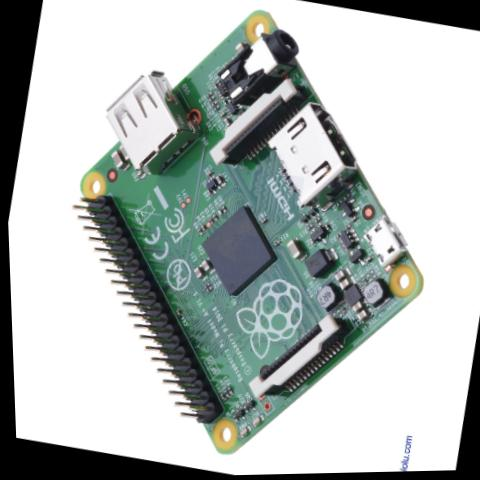Raspberry-Pi-1-Model-A-: (11, 0, 480, 480)
